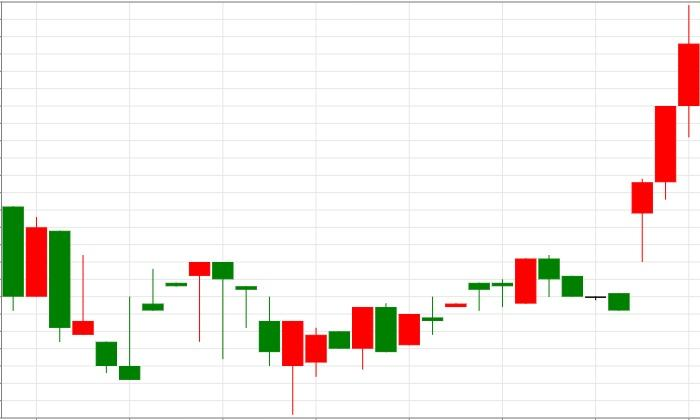hanging_man_fall: (119, 261, 233, 380)
